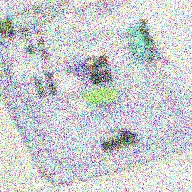러키펜정: (56, 75, 81, 94)
씨엠지세파클러캡슐: (66, 53, 107, 77)
에르도캡슐: (128, 24, 155, 60)
휴티렌정: (84, 88, 119, 105)
